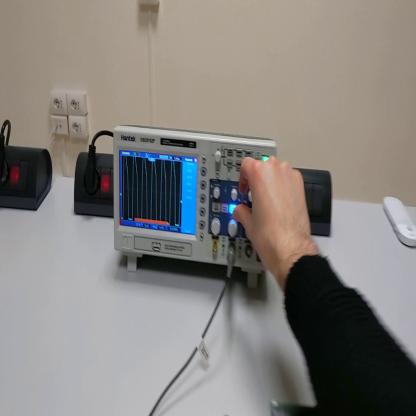hand: (235, 152, 314, 275)
oscilloscope: (115, 127, 280, 292)
socket: (1, 144, 54, 215), (74, 153, 115, 219)
